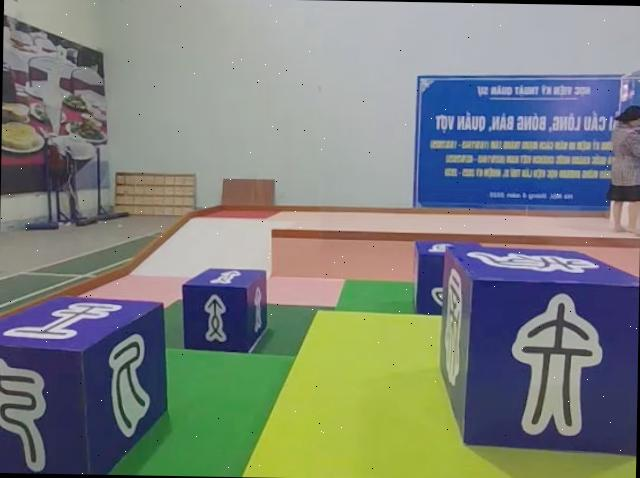R2 Fake Blue: (434, 240, 640, 458), (0, 289, 166, 475)
R2 Real Blue: (178, 267, 267, 355)
